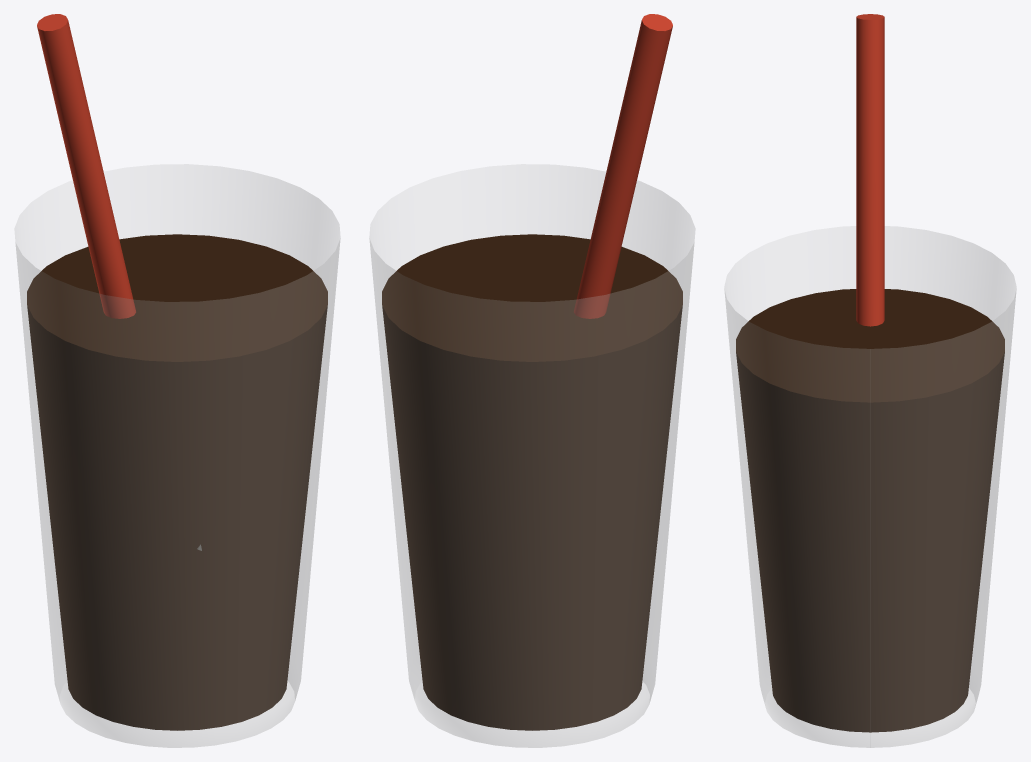
The model's file is cold-brew.glb.
3 views of the same model, side by side, from view 1: azimuth 30°, elevation 25°; view 2: azimuth 150°, elevation 25°; view 3: azimuth 270°, elevation 25° (orthographic). The views are drawn at different scales.
Parts seen in each view (by area): view 1: cold-brew; view 2: cold-brew; view 3: cold-brew.
Part boxes in pixels (box(x1,y1,x2,y2)): cold-brew: box(14, 14, 340, 747); cold-brew: box(369, 14, 695, 747); cold-brew: box(724, 14, 1016, 747).
Bounding box in the file's own units: 0.086 × 0.2059 × 0.086.
